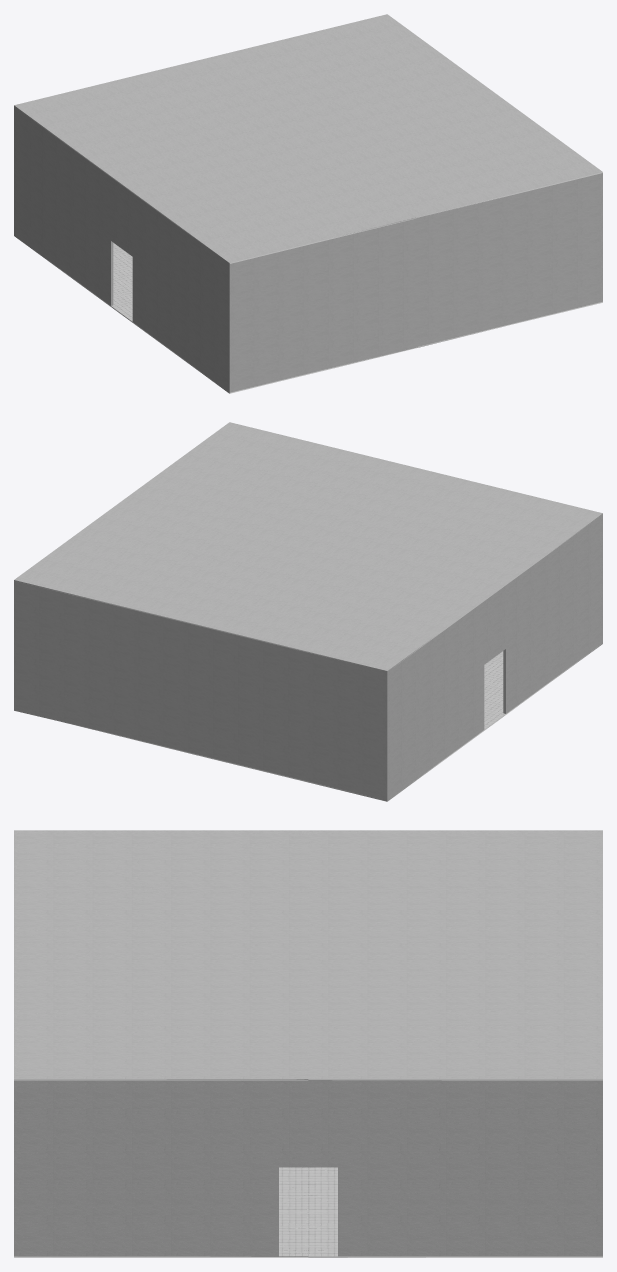
Rendered from Hall01.fbx.
3 renders of one model, top to bottom at view 1: azimuth 30°, elevation 25°; view 2: azimuth 150°, elevation 25°; view 3: azimuth 270°, elevation 25°, orthographic. The views are drawn at different scales.
Visible parts, largest first — view 1: node_id8 (×3); view 2: node_id8 (×3); view 3: node_id8 (×3).
Part boxes in pixels (x1,y1,x2,y2): node_id8 (×3): [14, 14, 602, 393]; node_id8 (×3): [14, 422, 602, 801]; node_id8 (×3): [14, 830, 602, 1257].
Bounding box in the file's own units: 0.512 × 0.1713 × 0.512.
Materials: 3 (2 with a texture image).
